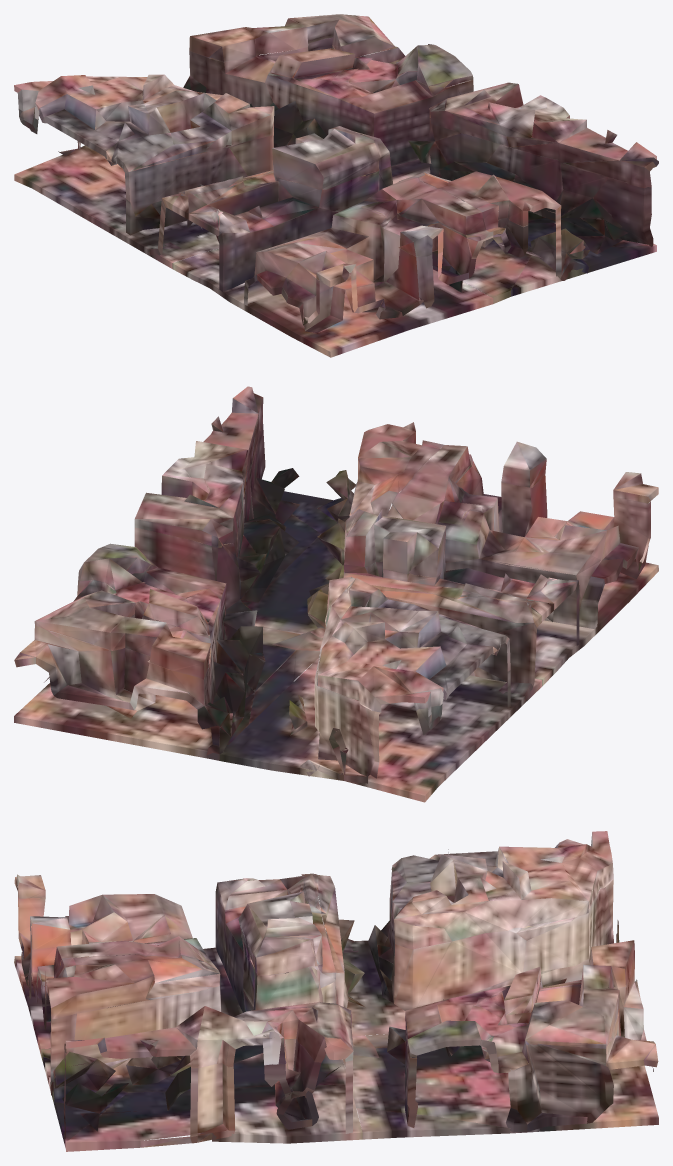
3 renders of one model, top to bottom at view 1: azimuth 30°, elevation 25°; view 2: azimuth 150°, elevation 25°; view 3: azimuth 270°, elevation 25°, orthographic. The views are drawn at different scales.
Parts seen in each view (by area): view 1: Mesh_0; view 2: Mesh_0; view 3: Mesh_0.
Part boxes in pixels (x1,y1,x2,y2): Mesh_0: (14, 14, 658, 357); Mesh_0: (14, 386, 658, 802); Mesh_0: (14, 831, 658, 1151).
Bounding box in the file's own units: 134 × 34.63 × 165.
Materials: 1 (1 with a texture image).
